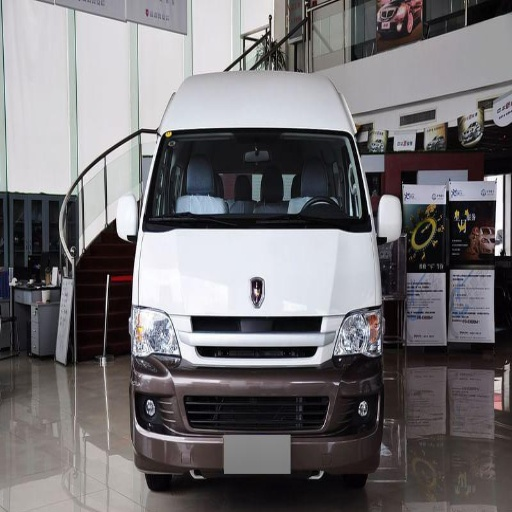front_bumper: (131, 313, 381, 476)
front_right_light: (130, 301, 177, 357)
hood: (144, 229, 379, 314)
trunk: (176, 129, 233, 157)
